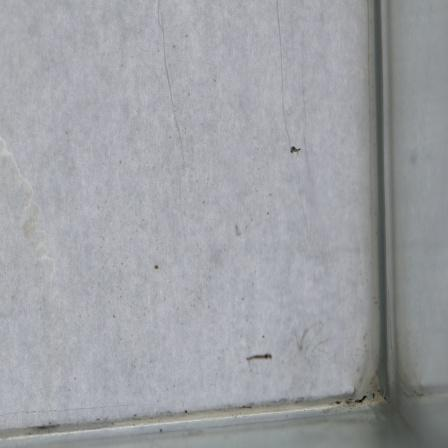Jentik-Nyamuk: (242, 349, 275, 366), (286, 140, 303, 158)
